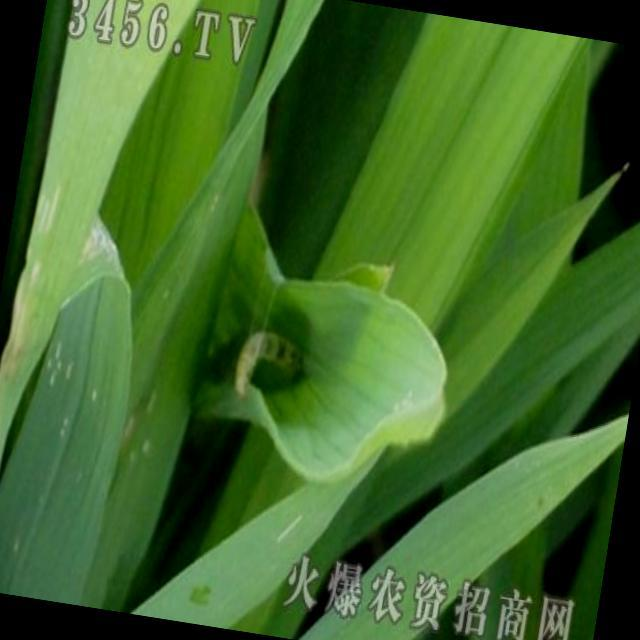leaf folder: (234, 329, 300, 395)
